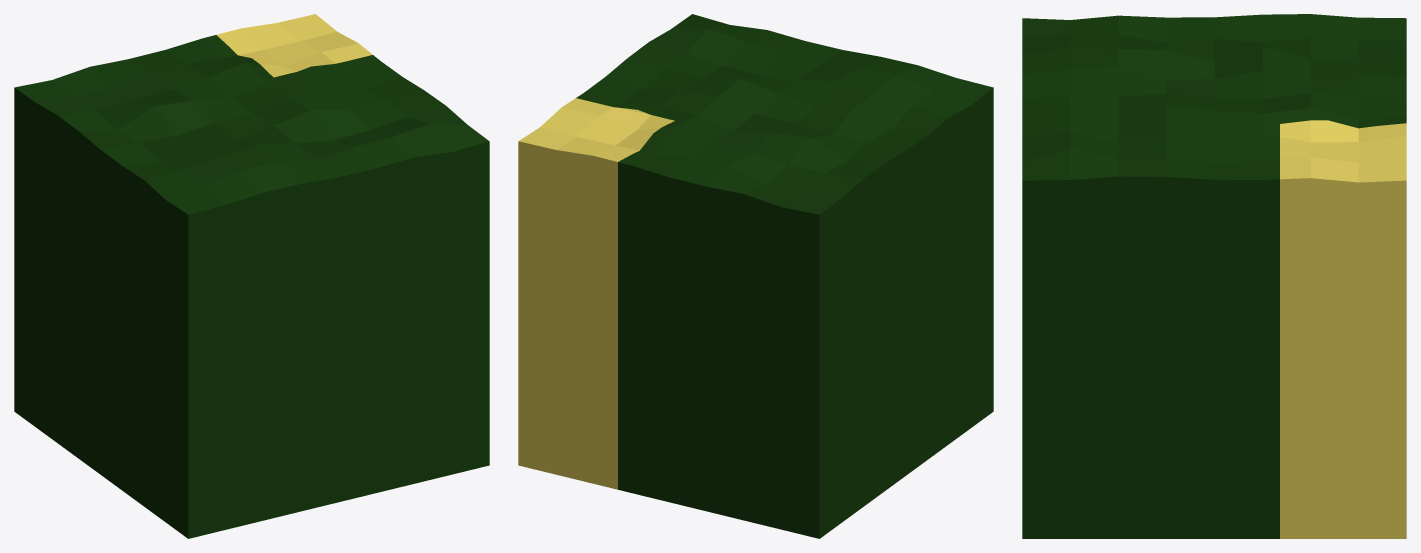
The model's file is TileTurnSandGrass.fbx.
3 renders of one model, left to right at view 1: azimuth 30°, elevation 25°; view 2: azimuth 150°, elevation 25°; view 3: azimuth 270°, elevation 25°, orthographic. The views are drawn at different scales.
Parts seen in each view (by area): view 1: Cube.024; view 2: Cube.024; view 3: Cube.024.
Boxes of the visible parts, bbox=[...] form: Cube.024: bbox=[14, 14, 489, 538]; Cube.024: bbox=[518, 14, 993, 538]; Cube.024: bbox=[1022, 14, 1406, 538].
Bounding box in the file's own units: 100 × 106 × 100.
